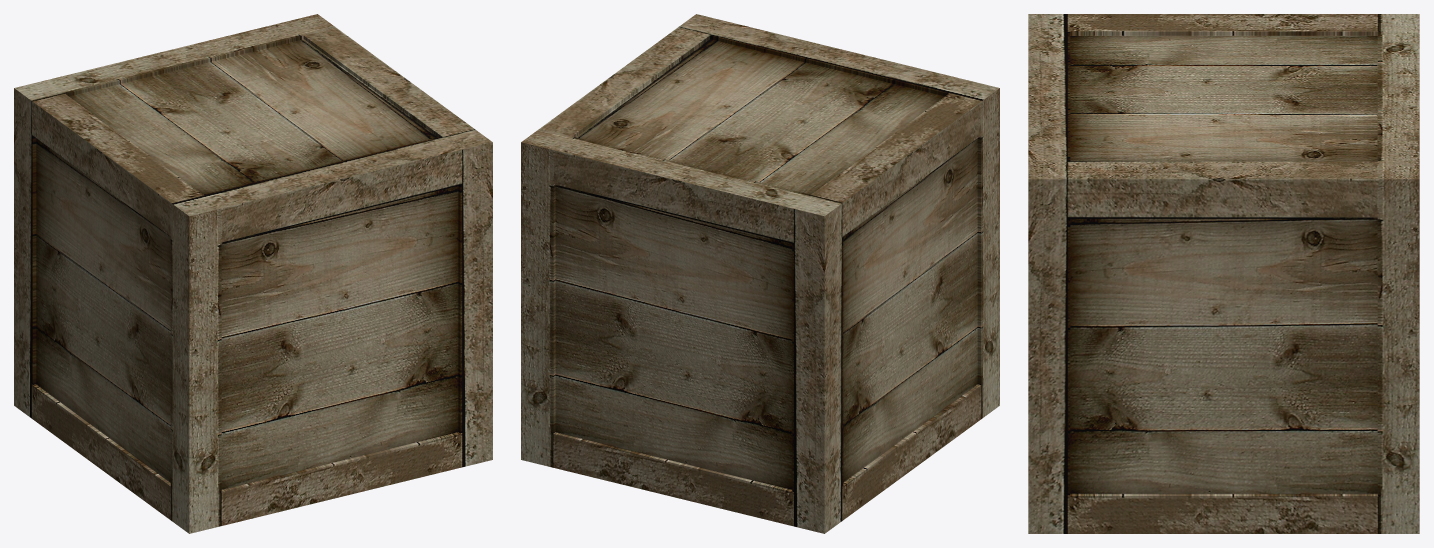
File: crate.fbx
The picture shows the model from 3 angles, left to right: view 1: azimuth 30°, elevation 25°; view 2: azimuth 150°, elevation 25°; view 3: azimuth 270°, elevation 25°; orthographic projection. The views are drawn at different scales.
Parts seen in each view (by area): view 1: crate; view 2: crate; view 3: crate.
Part boxes in pixels (x1,y1,x2,y2): crate: [14, 14, 492, 533]; crate: [521, 14, 999, 533]; crate: [1028, 14, 1419, 533].
Size of the model in its own units: 120 by 120 by 120.
